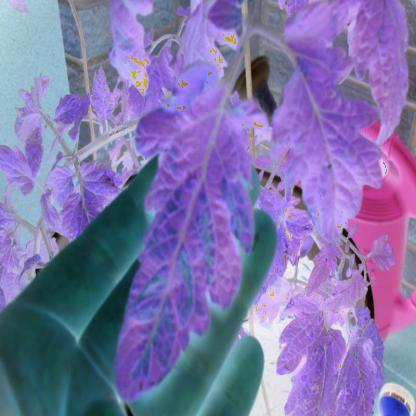Tomato leaf late blight: (106, 62, 260, 404), (264, 17, 364, 253)
